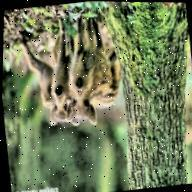boar: (54, 11, 140, 139), (35, 37, 81, 145)
